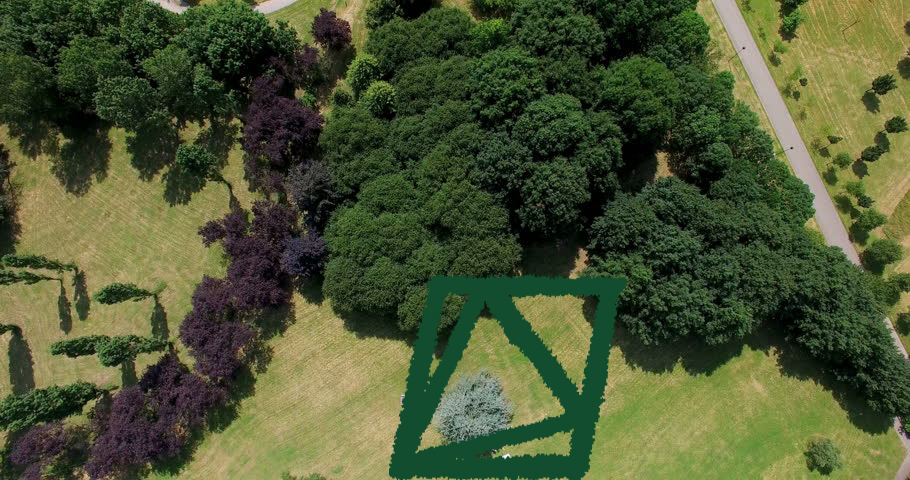marker: (385, 269, 634, 480)
